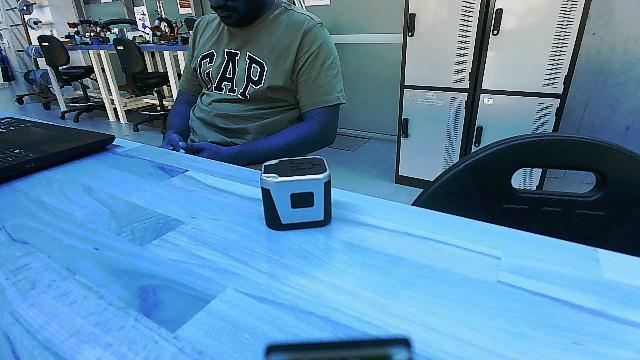adapter: (256, 154, 338, 238)
